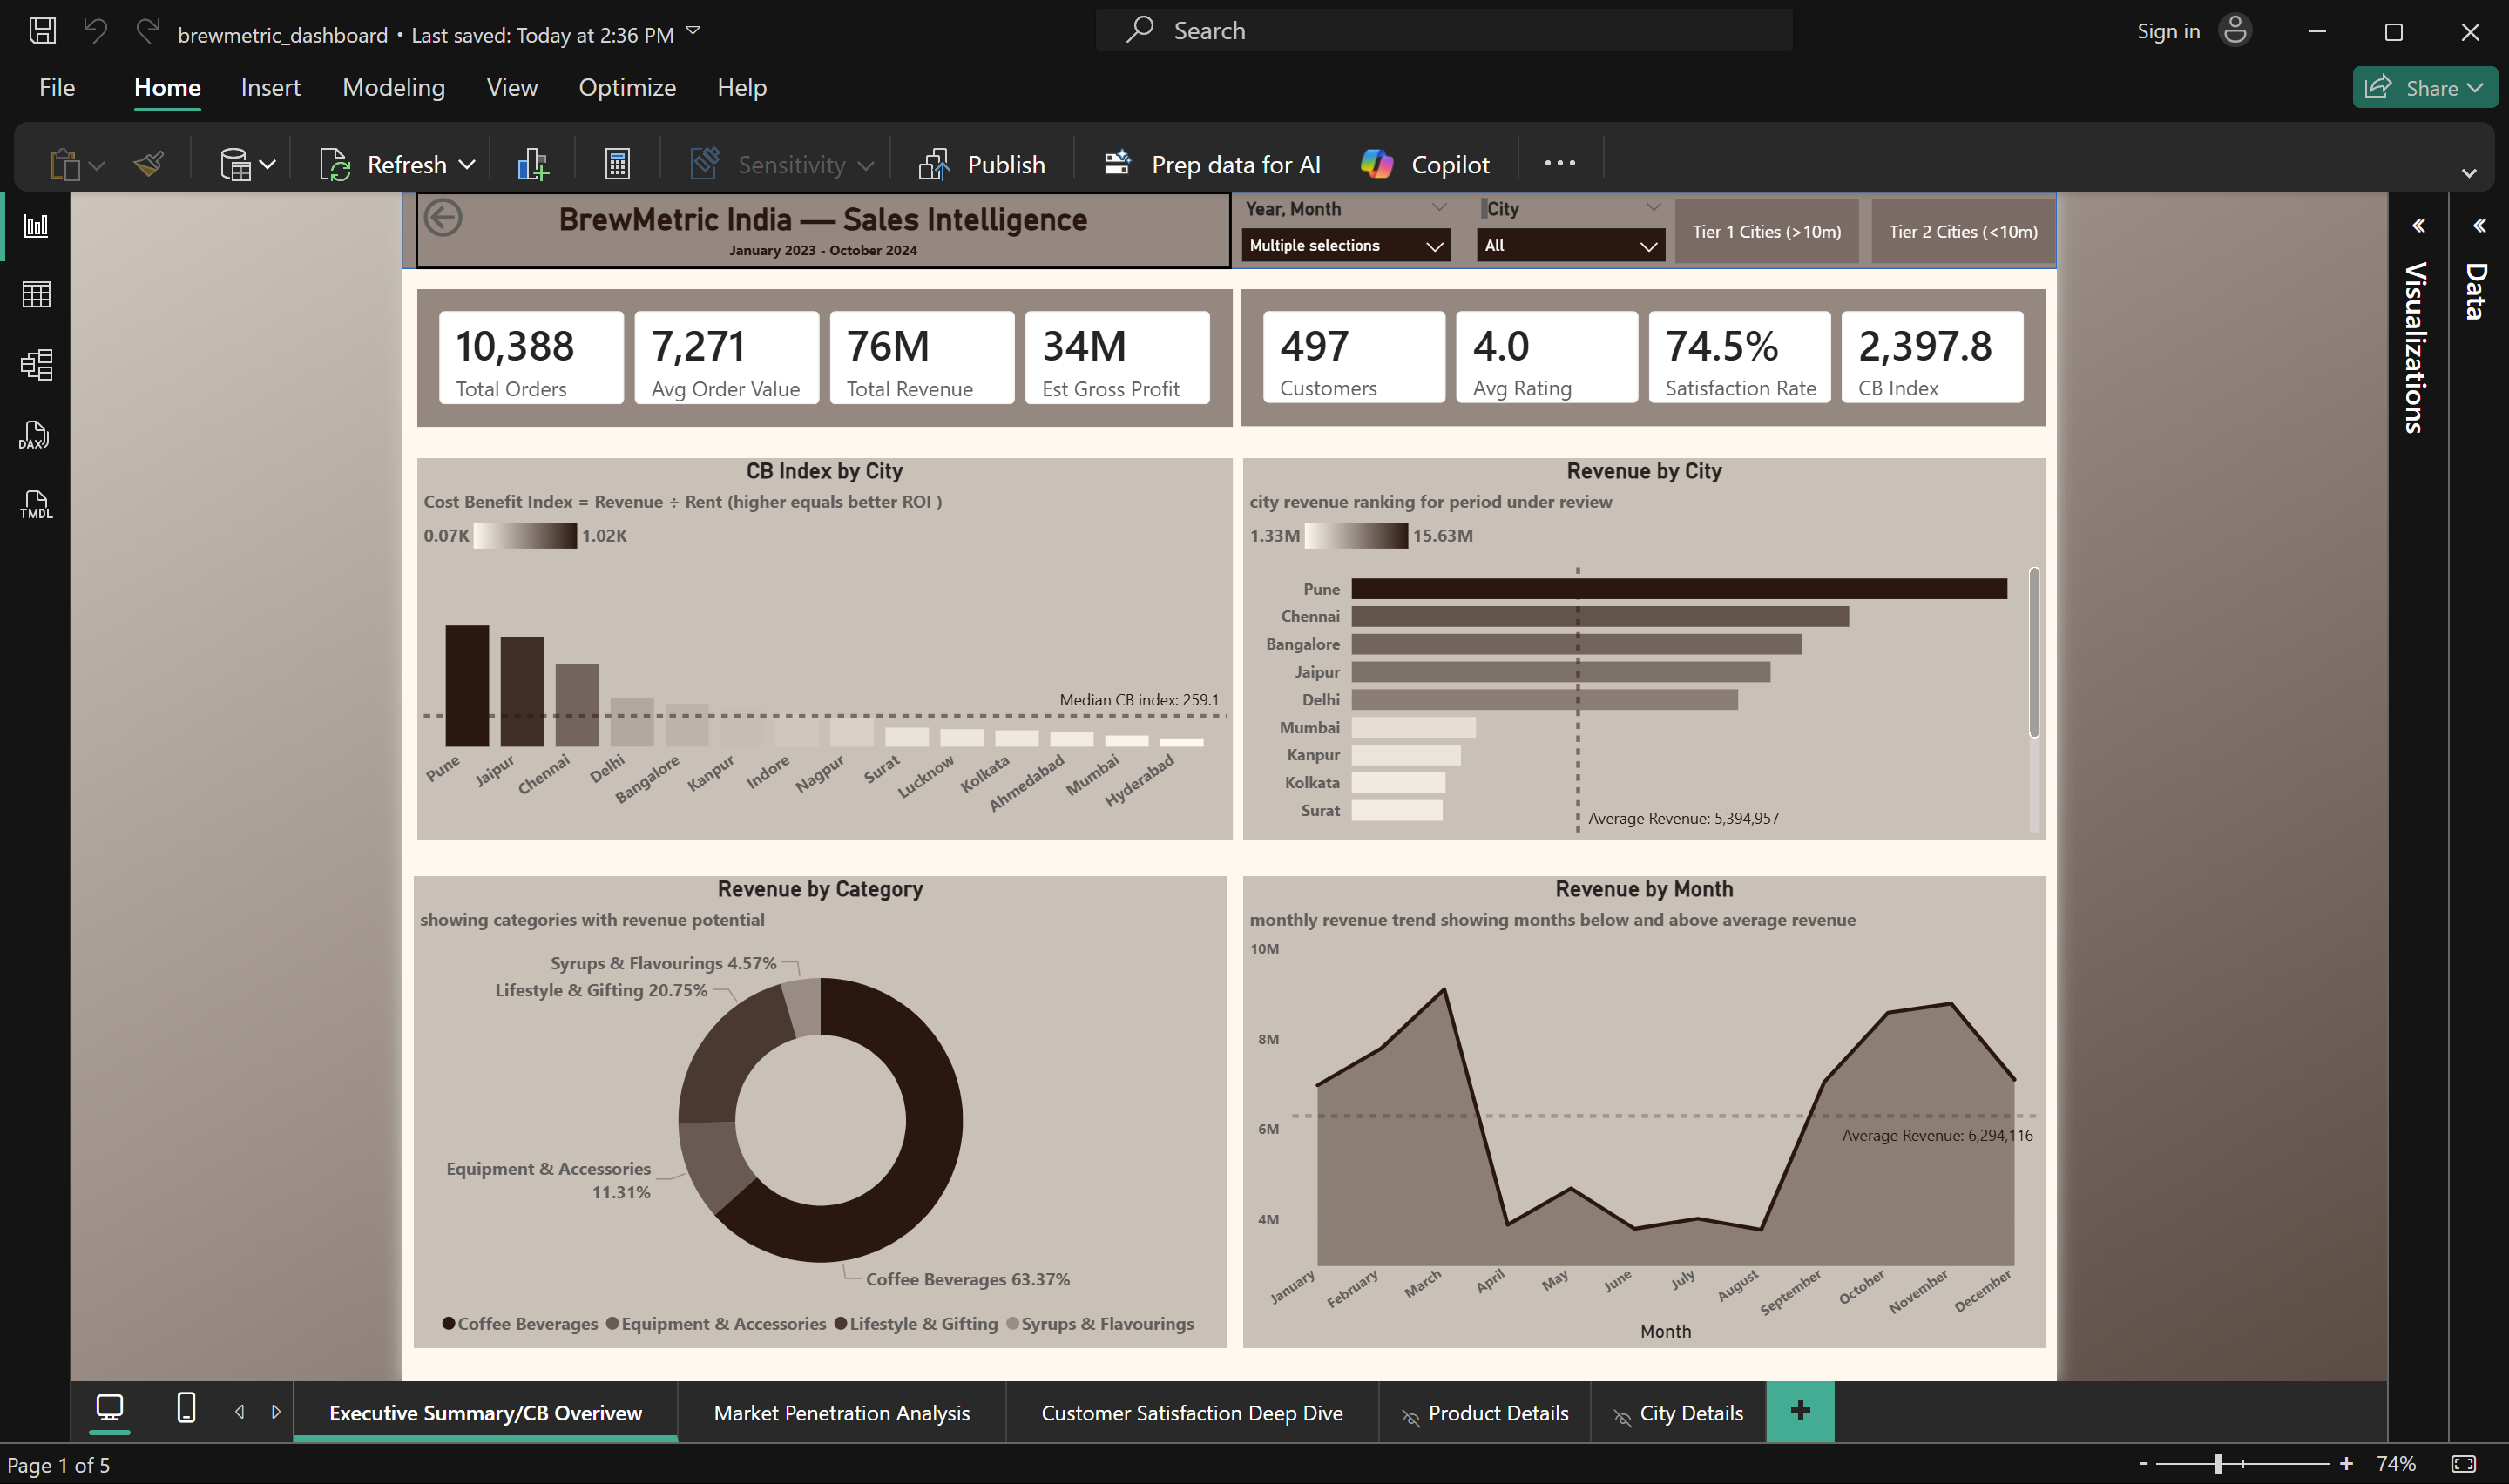

The page's visual inventory and layout, read from the dashboard file:
{"tool":"powerbi","page":{"name":"Executive Summary/CB Overivew","canvas":[1280,920],"ordinal":0},"visuals":[{"type":"shape","box":[0,0,1280,59.9],"z":0},{"type":"textbox","box":[10.2,0,631.1,59.9],"z":1000},{"type":"slicer","fields":{"Values":["sales.sale_date.Variation.Date Hierarchy.Year","sales.sale_date.Variation.Date Hierarchy.Month"]},"box":[639.4,0,181.6,60.5],"z":2000},{"type":"slicer","fields":{"Values":["city.city_name"]},"box":[821.1,0,165.4,60.5],"z":3000},{"type":"cardVisual","fields":{"Data":["#_measures.Total Orders","#_measures.Avg Order Value","#_measures.Total Revenue","#_measures.Est Gross Profit"]},"box":[12.1,75.4,630.4,106.4],"z":4000},{"type":"cardVisual","fields":{"Data":["#_measures.Unique Customers","#_measures.Avg Rating","#_measures.Satisfaction Rate %","#_measures.CB Index"]},"box":[648.9,75.2,622.2,105.8],"z":5000},{"type":"clusteredBarChart","title":"Revenue by City","fields":{"Category":["city (2).city_name"],"Y":["#_measures.Total Revenue"]},"box":[650.6,206.1,621,295],"z":6000},{"type":"clusteredColumnChart","title":"CB Index by City","fields":{"Category":["city.city_name"],"Y":["#_measures.CB Index"]},"box":[12.1,206.1,630.4,295],"z":7000},{"type":"areaChart","title":"Revenue by Month","fields":{"Category":["sales (2).sale_date.Variation.Date Hierarchy.Month"],"Y":["#_measures.Total Revenue"]},"box":[650.6,529.4,621,365],"z":8000},{"type":"donutChart","title":"Revenue by Category","fields":{"Y":["#_measures.Total Revenue"],"Series":["products.category"]},"box":[9.4,529.4,629,365],"z":9000},{"type":"actionButton","box":[11.8,0,100.4,39.9],"z":10000},{"type":"bookmarkNavigator","box":[985,5.9,295.3,50.2],"z":14000}]}

Visuals, with their boxes on the page's 1280x920 design canvas (x1, y1, x2, y2). These are canvas units, not pixel positions in the 2509x1484 screenshot, which may show the page scaled, cropped or inside an application window:
shape: 0/0/1280/60
textbox: 10/0/641/60
slicer - sales.sale_date.Variation.Date Hierarchy.Year x sales.sale_date.Variation.Date Hierarchy.Month: 639/0/821/60
slicer - city.city_name: 821/0/986/60
cardVisual - #_measures.Total Orders x #_measures.Avg Order Value: 12/75/642/182
cardVisual - #_measures.Unique Customers x #_measures.Avg Rating: 649/75/1271/181
"Revenue by City" clusteredBarChart: 651/206/1272/501
"CB Index by City" clusteredColumnChart: 12/206/642/501
"Revenue by Month" areaChart: 651/529/1272/894
"Revenue by Category" donutChart: 9/529/638/894
actionButton: 12/0/112/40
bookmarkNavigator: 985/6/1280/56
